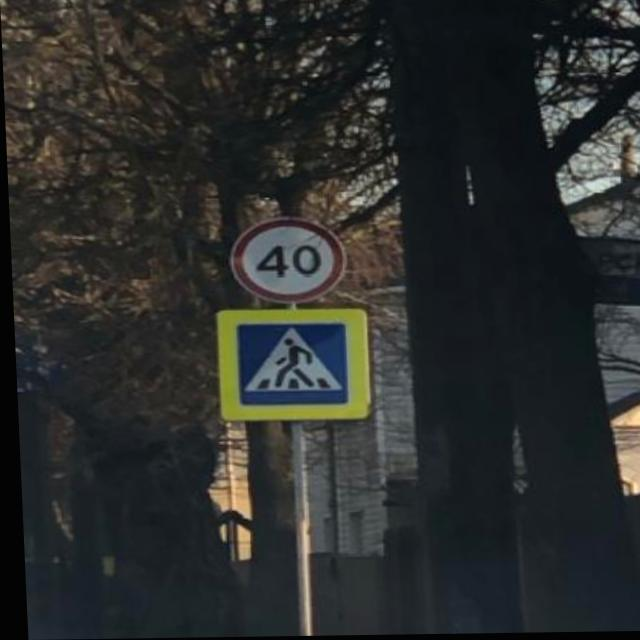limit40: (223, 210, 345, 308)
